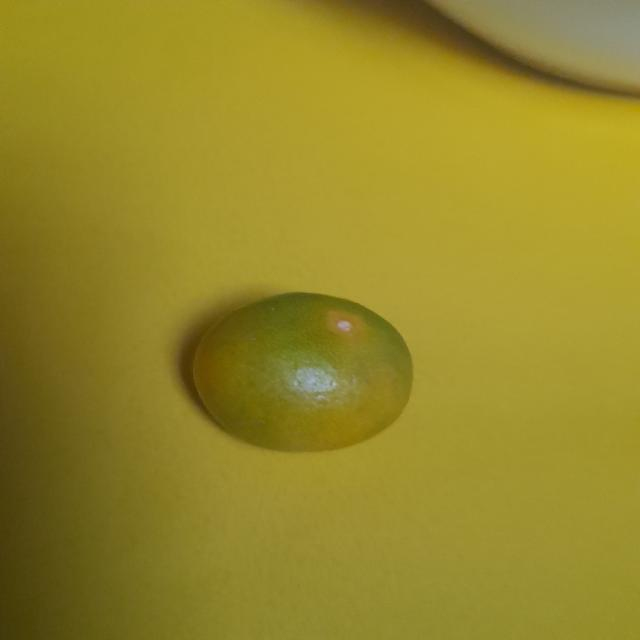greening: (177, 294, 418, 462)
